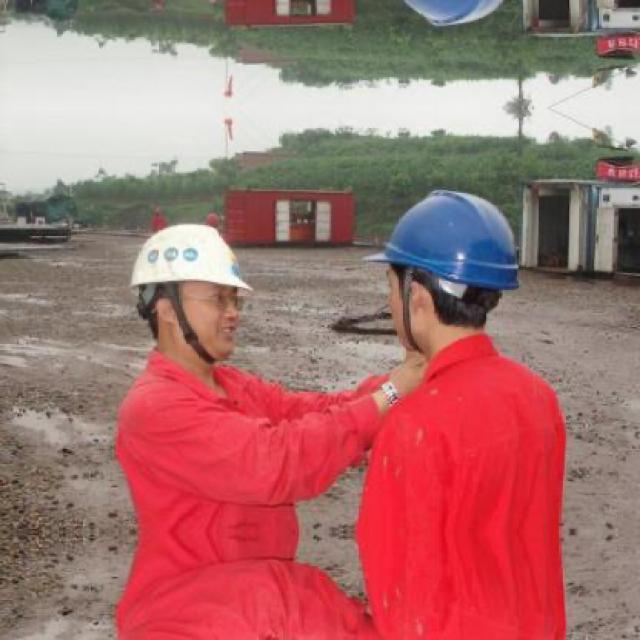helmet: (357, 173, 541, 353), (119, 205, 266, 364), (356, 0, 542, 45)
